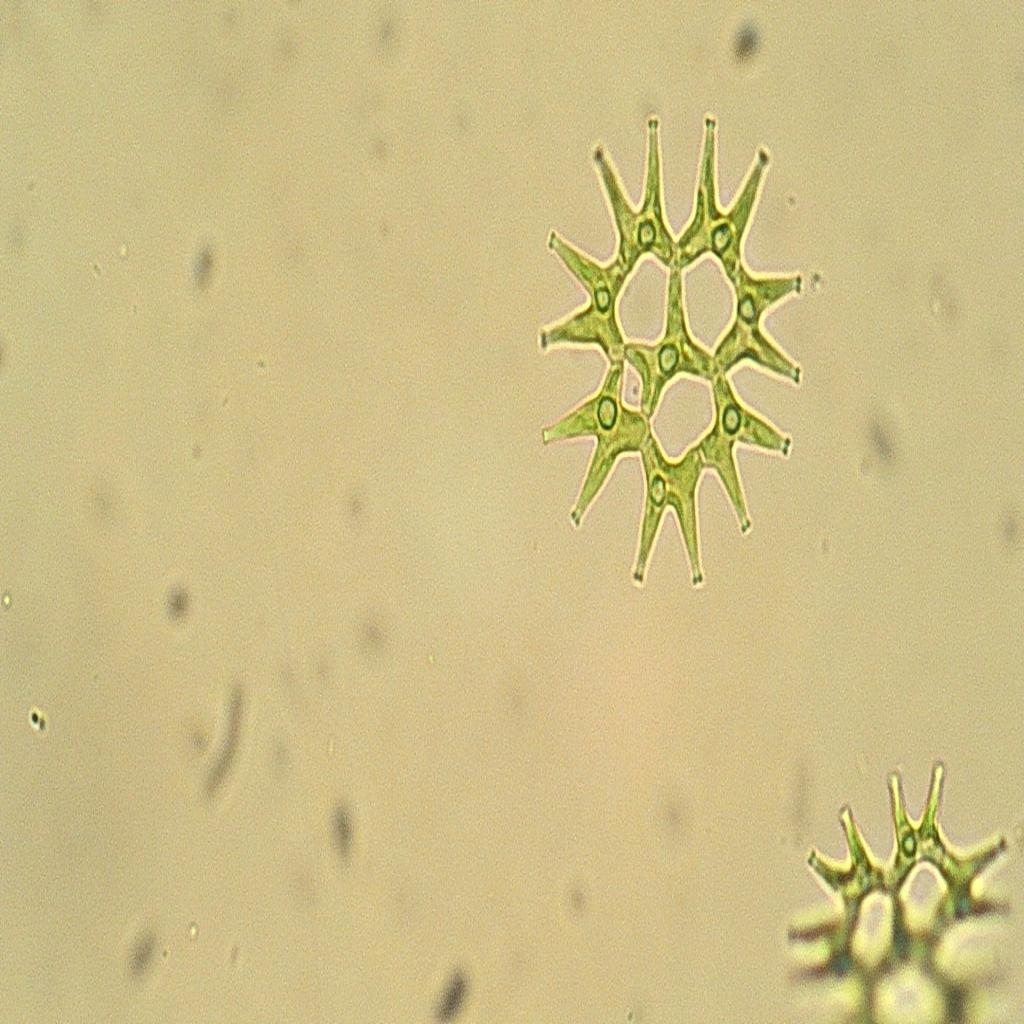Pediastrum_75T: (527, 103, 819, 604)
